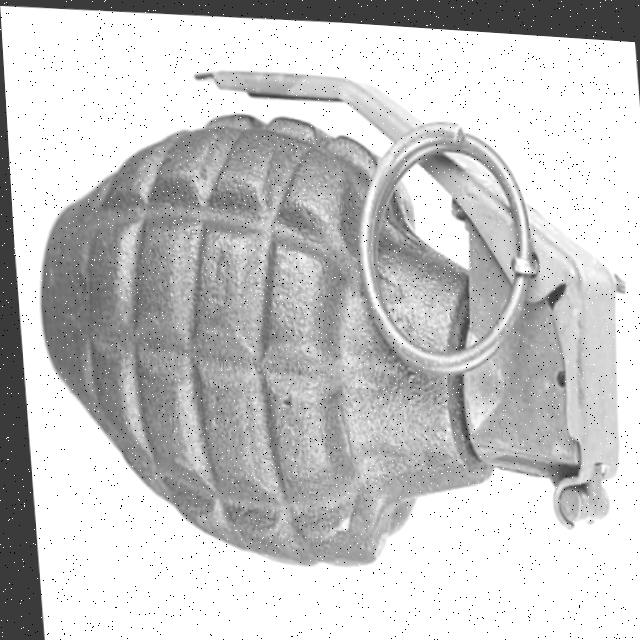grenade: (2, 16, 640, 616)
